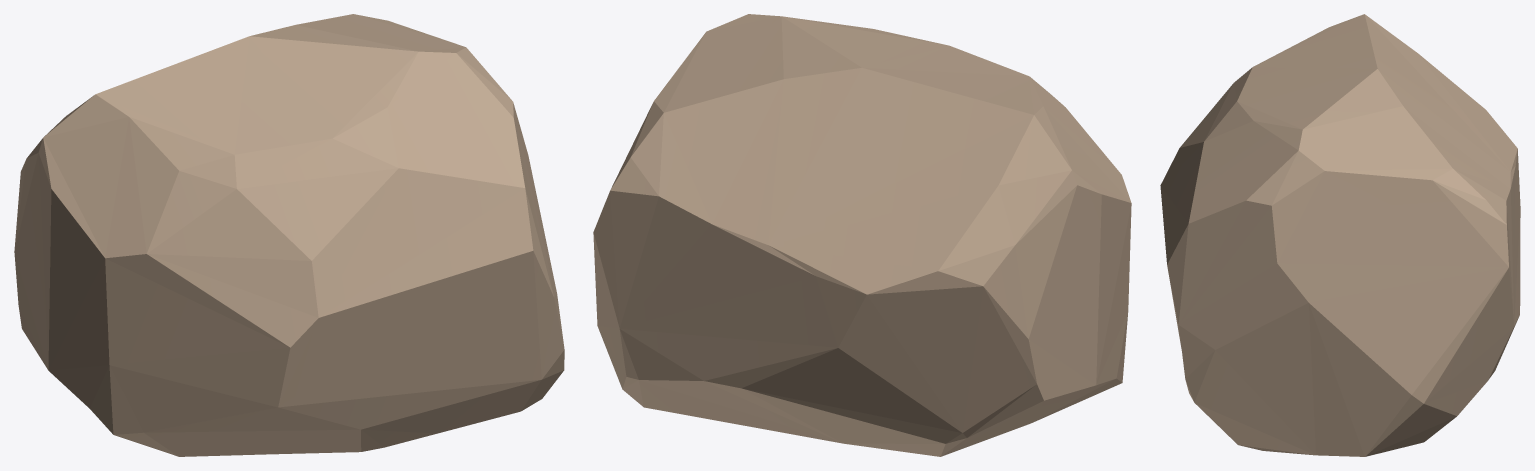
Rendered from fm_boulder_mossy_b.glb.
The picture shows the model from 3 angles, left to right: view 1: azimuth 30°, elevation 25°; view 2: azimuth 150°, elevation 25°; view 3: azimuth 270°, elevation 25°; orthographic projection. The views are drawn at different scales.
Visible parts, largest first — view 1: SM_Env_Rock_03; view 2: SM_Env_Rock_03; view 3: SM_Env_Rock_03.
Part boxes in pixels (<box>): SM_Env_Rock_03: <box>14,14,564,456</box>; SM_Env_Rock_03: <box>593,14,1131,456</box>; SM_Env_Rock_03: <box>1160,14,1520,456</box>.
Size of the model in its own units: 1.01 by 0.7693 by 0.838.
1 material, 1 textured.
